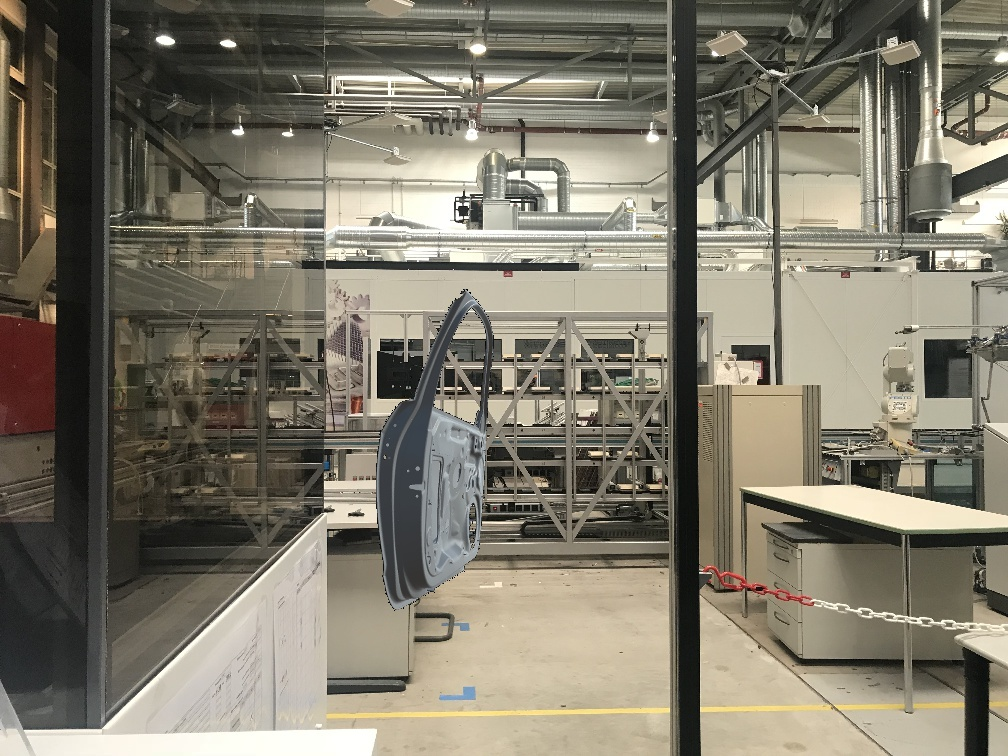car_door: (376, 289, 493, 610)
